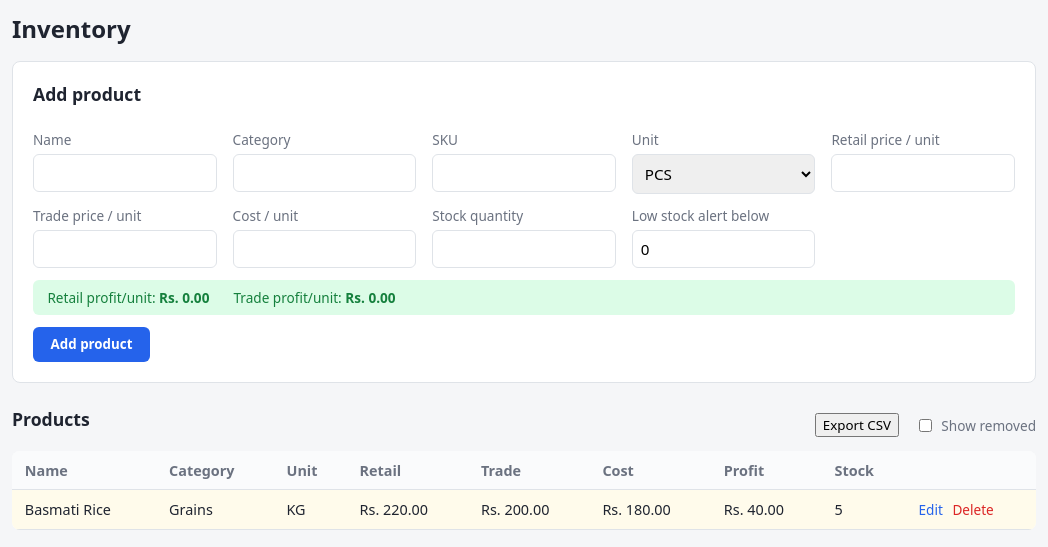
it: Inventory page › shows a live retail/trade profit preview as the form is filled
The width and height of the screenshot is (1048, 547).
Expected: the text "Basmati Rice" is shown, 12,490 -> 156,530
Step 1. Type "220" into the number field labelled "Retail price / unit" → (923, 173), box 831,154 -> 1015,192
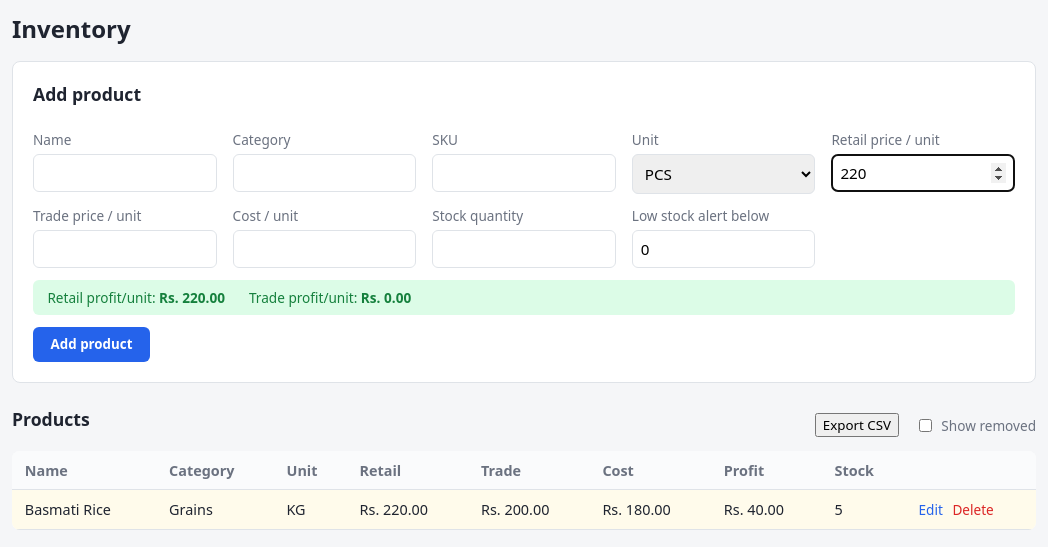
Step 2. Type "200" into the number field labelled "Trade price / unit" → (125, 249), box 33,230 -> 217,268
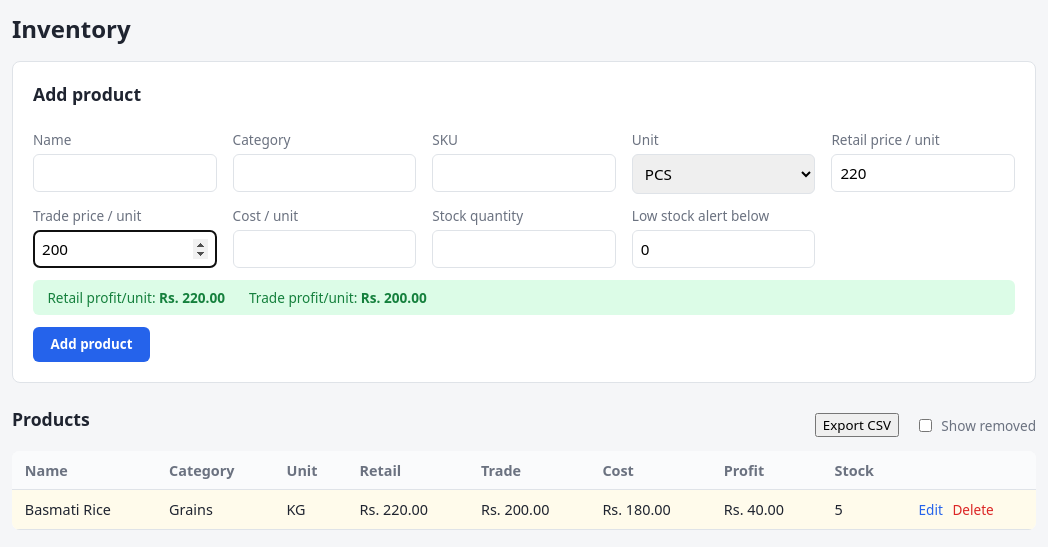
Step 3. Type "180" into the number field labelled "Cost / unit" → (324, 249), box 233,230 -> 416,268
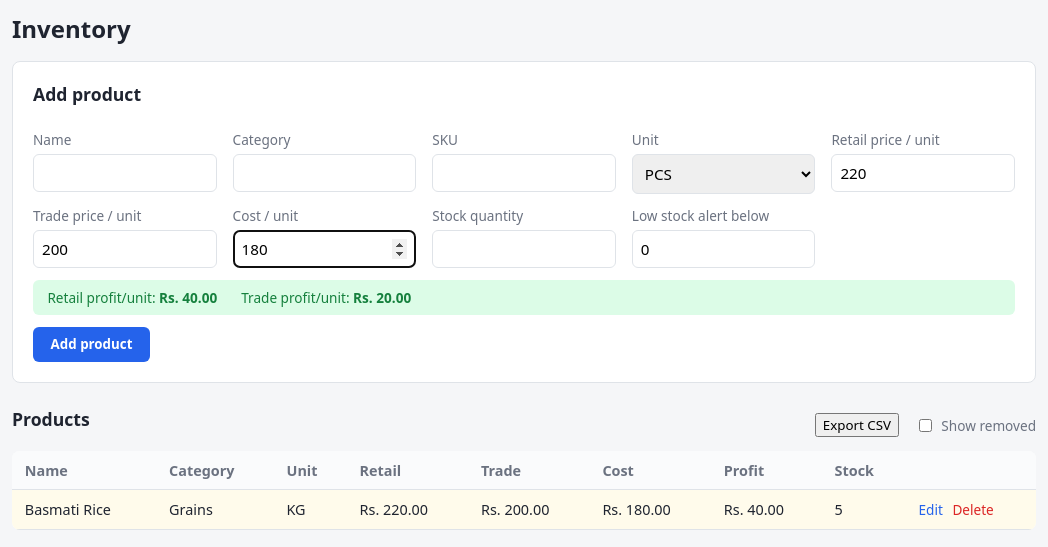
Expected: the text "Rs. 40.00" is shown, 159,288 -> 217,307
Expected: the text "Rs. 20.00" is shown, 353,288 -> 411,307
